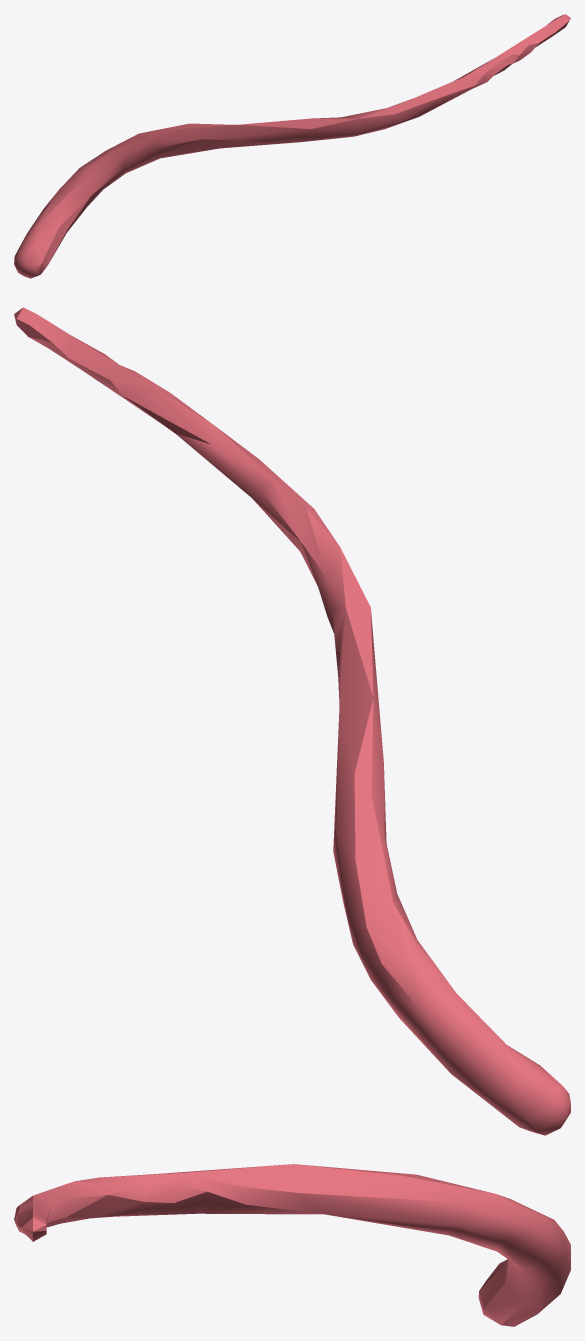
File: fma50520_fj1704m.glb
3 renders of one model, top to bottom at view 1: azimuth 30°, elevation 25°; view 2: azimuth 150°, elevation 25°; view 3: azimuth 270°, elevation 25°, orthographic. The views are drawn at different scales.
Parts seen in each view (by area): view 1: FMA50520_FJ1704M; view 2: FMA50520_FJ1704M; view 3: FMA50520_FJ1704M.
Boxes of the visible parts, x1,y1,x2,y2 form: FMA50520_FJ1704M: [14, 14, 570, 278]; FMA50520_FJ1704M: [14, 307, 570, 1135]; FMA50520_FJ1704M: [14, 1164, 570, 1326].
Bounding box in the file's own units: 0.0135 × 0.00772 × 0.00812.
